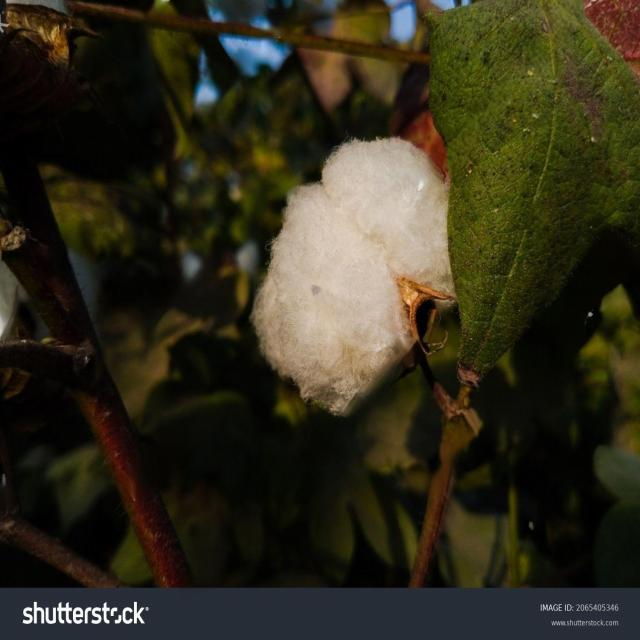Leaf: (245, 119, 469, 431)
